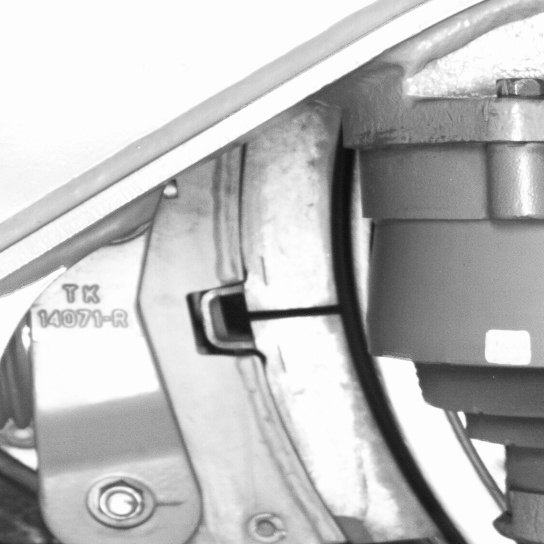KnifeSwitch: (247, 144, 468, 541)
